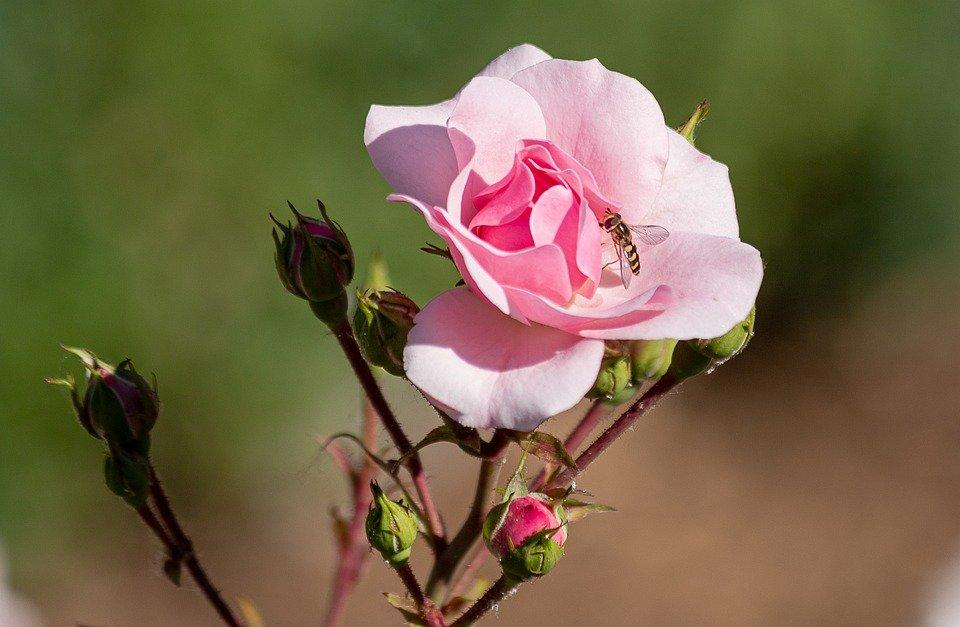Rose: (348, 32, 774, 438)
